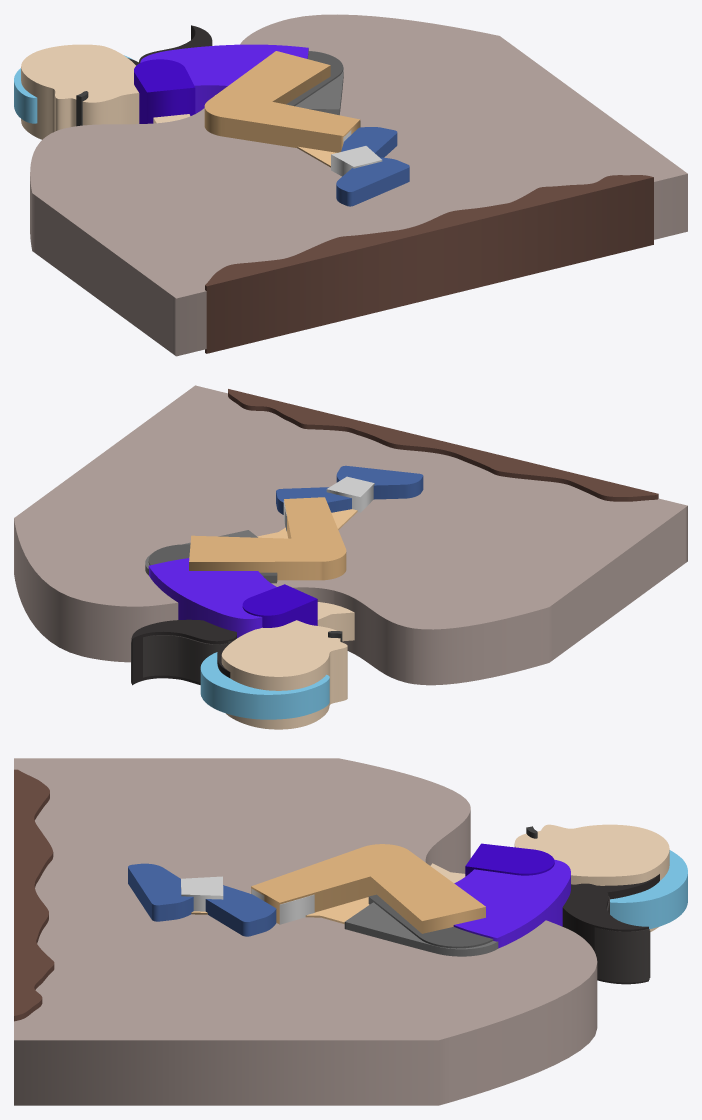
File: emoji_u1f6b5_1f3fb_200d_2640.glb
The picture shows the model from 3 angles, top to bottom: view 1: azimuth 30°, elevation 25°; view 2: azimuth 150°, elevation 25°; view 3: azimuth 270°, elevation 25°; orthographic projection. The views are drawn at different scales.
Parts seen in each view (by area): view 1: emoji_u1f6b5_1f3fb_200d_2640; view 2: emoji_u1f6b5_1f3fb_200d_2640; view 3: emoji_u1f6b5_1f3fb_200d_2640.
Boxes of the visible parts, x1,y1,x2,y2 form: emoji_u1f6b5_1f3fb_200d_2640: (14,14,687,356); emoji_u1f6b5_1f3fb_200d_2640: (14,385,687,729); emoji_u1f6b5_1f3fb_200d_2640: (14,758,687,1105).
Size of the model in its own units: 0.0333 by 0.006 by 0.0336.
